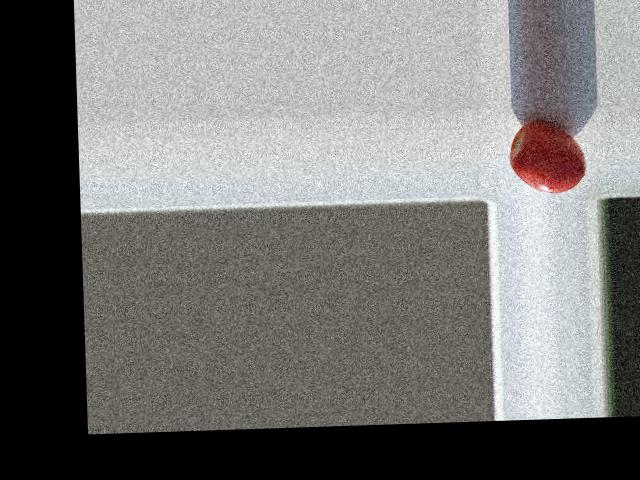tomato: (509, 120, 586, 194)
